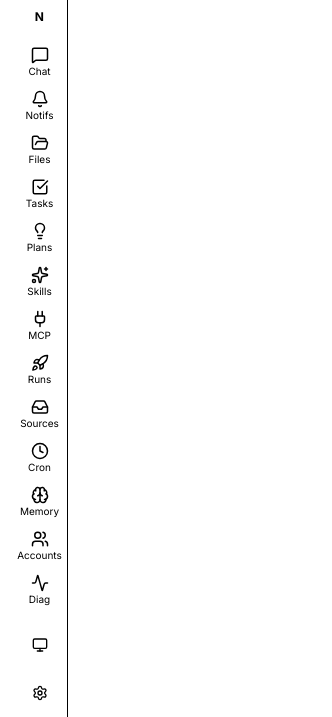
Test: the Setup entry › leaves the rail list once setup is finished and stays one click away in the footer
Note: One control only: the footer's gear, not a list entry beside it.
Click the button named "Setup": (40, 693) [20, 673, 60, 713]
(page scrolled)
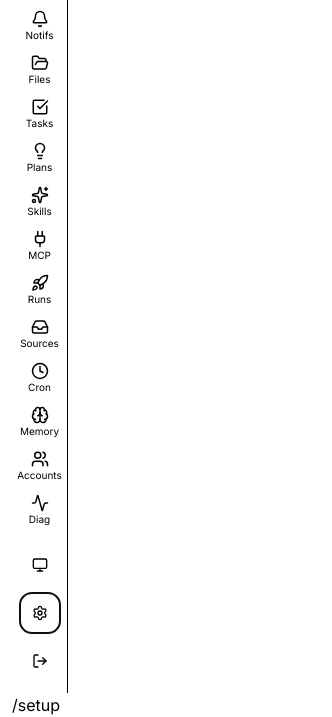
Now the text named "Location" reads "/setup", box [12, 695, 60, 715]
